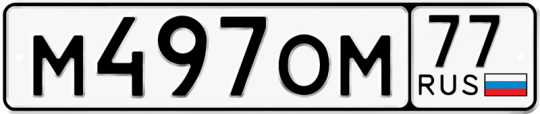number_plate: (11, 4, 536, 104)
